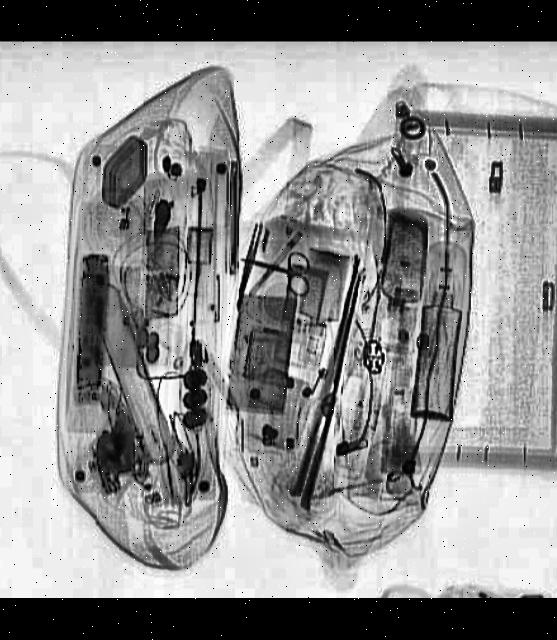Scissors: (235, 237, 318, 296)
